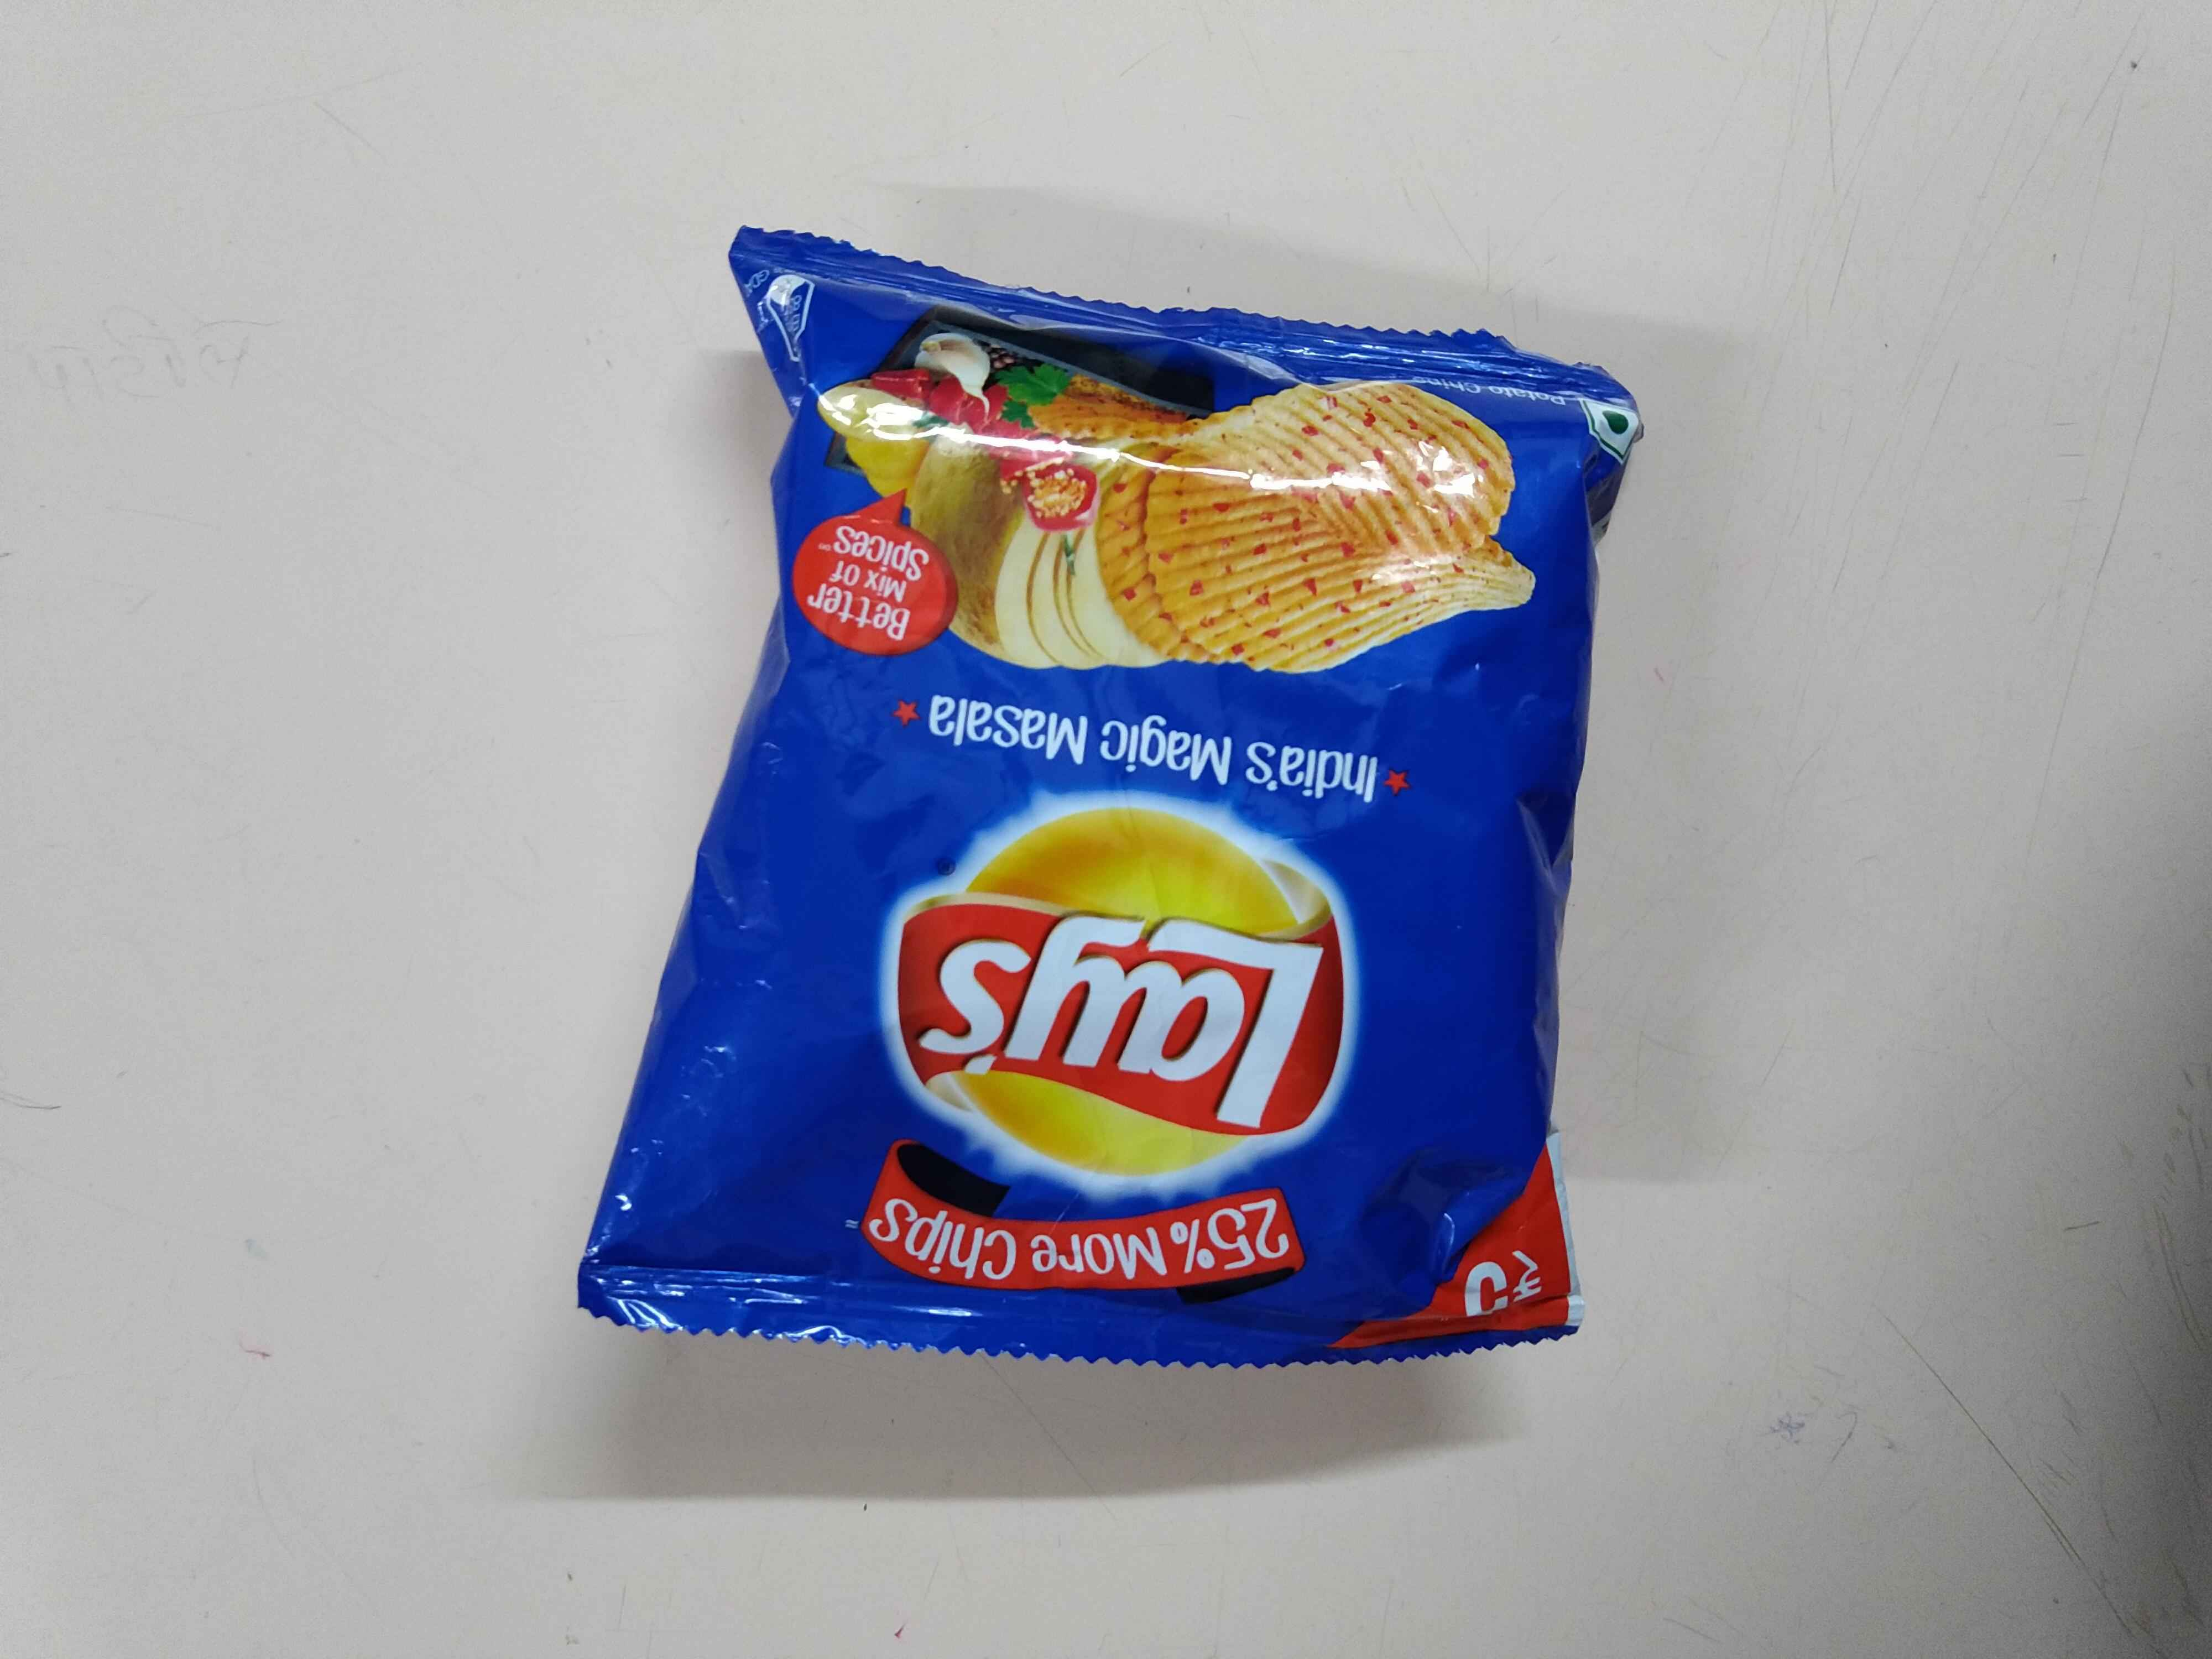Lays: (850, 777, 1378, 1192)
